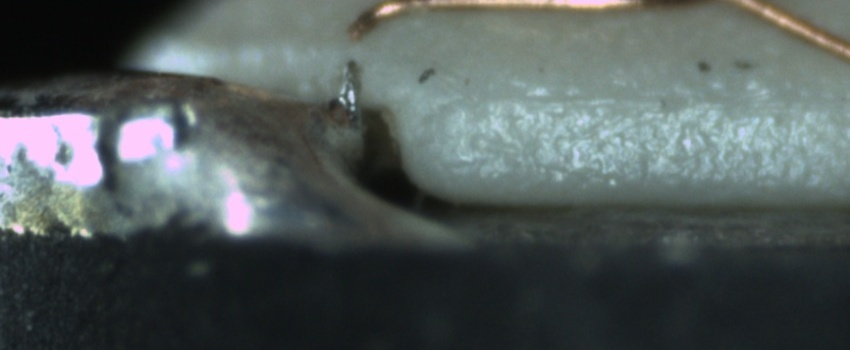DL: (430, 73, 850, 127)
